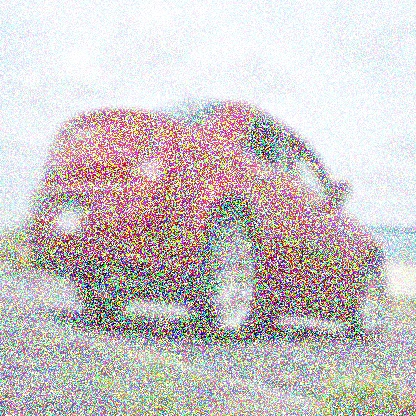Vehicle: (24, 95, 388, 349)
